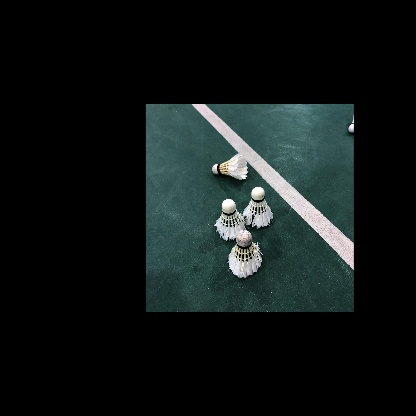ball_single: (228, 230, 262, 278), (214, 199, 247, 241), (243, 187, 273, 229), (212, 153, 248, 180), (348, 115, 354, 133)
